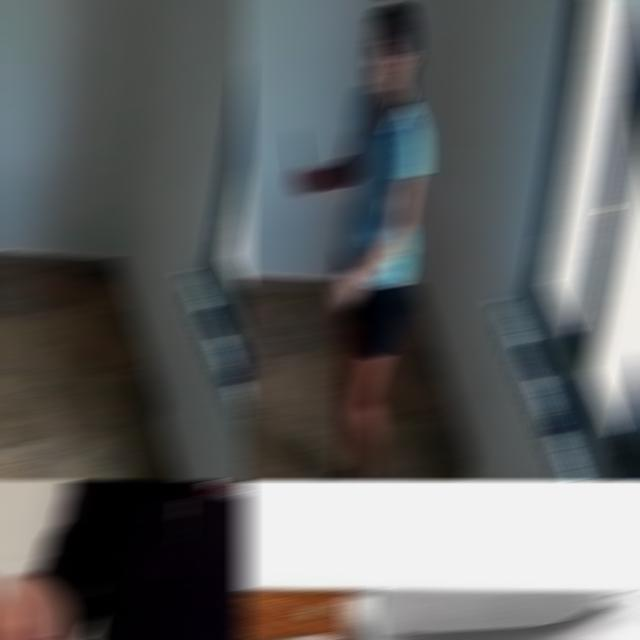Knife: (238, 589, 624, 640), (288, 128, 308, 174)
Knife_Handle: (0, 571, 65, 640), (284, 128, 320, 194)
